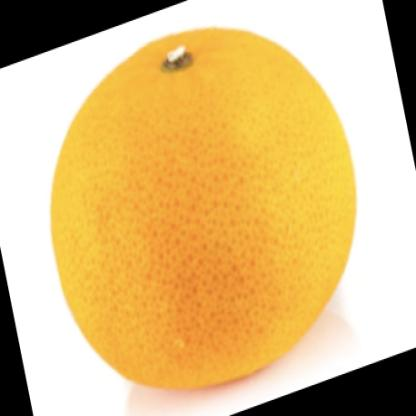fresh: (51, 27, 357, 388)
